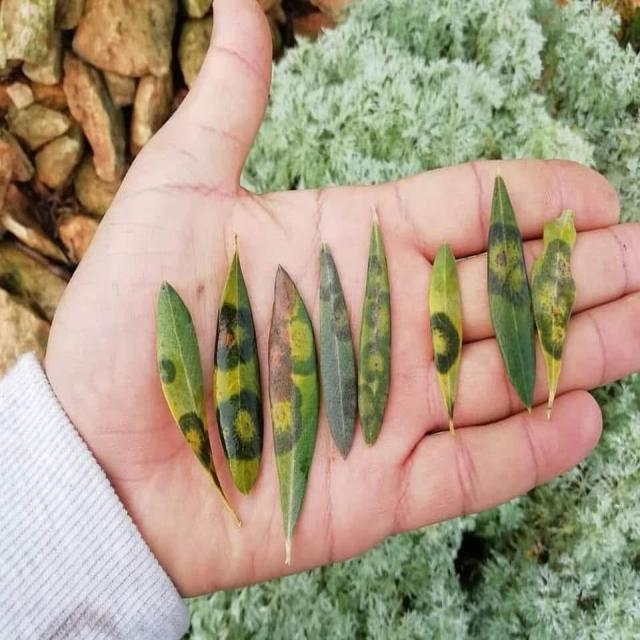OlivePeacockSpot: (158, 282, 242, 524), (268, 268, 319, 564), (214, 250, 262, 492), (488, 175, 536, 411), (530, 212, 576, 410), (318, 244, 357, 456), (358, 212, 391, 446), (428, 244, 462, 434)
